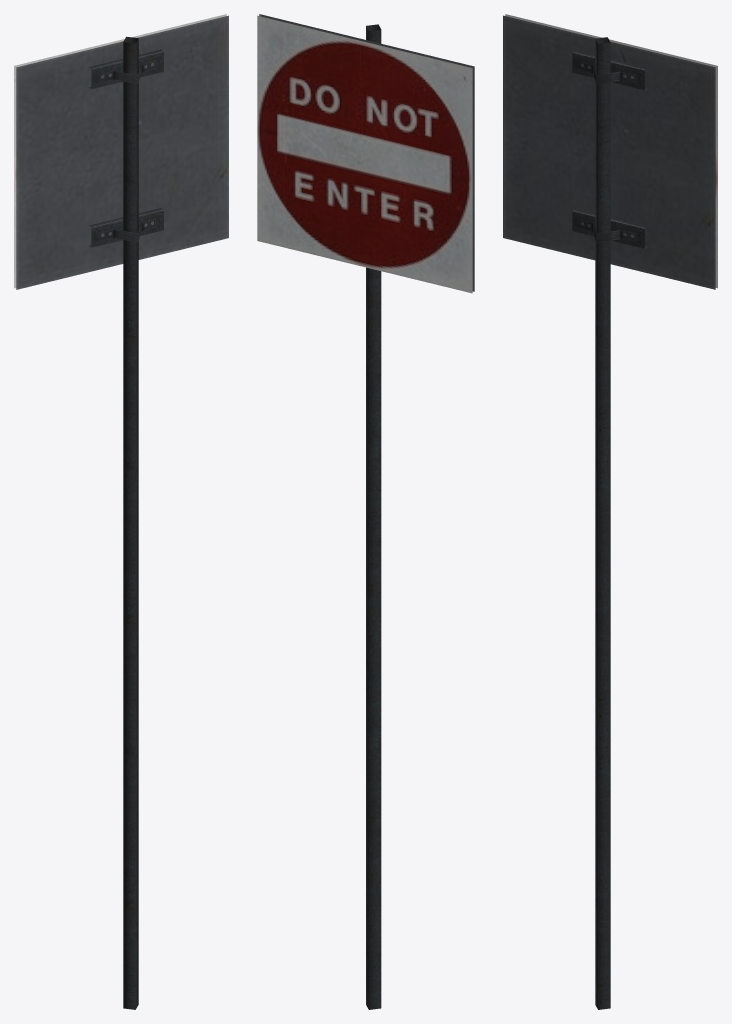
File: Do_Not_Enter.glb
3 views of the same model, side by side, from view 1: azimuth 30°, elevation 25°; view 2: azimuth 150°, elevation 25°; view 3: azimuth 330°, elevation 25° (orthographic).
Parts seen in each view (by area): view 1: Do_Not_Enter__LOD1; view 2: Do_Not_Enter__LOD1; view 3: Do_Not_Enter__LOD1.
Part boxes in pixels (<box>): Do_Not_Enter__LOD1: <box>14,14,228,1009</box>; Do_Not_Enter__LOD1: <box>257,14,474,1009</box>; Do_Not_Enter__LOD1: <box>503,14,717,1009</box>.
Size of the model in its own units: 0.6891 by 2.99 by 0.0909.
Materials: 1 (1 with a texture image).
